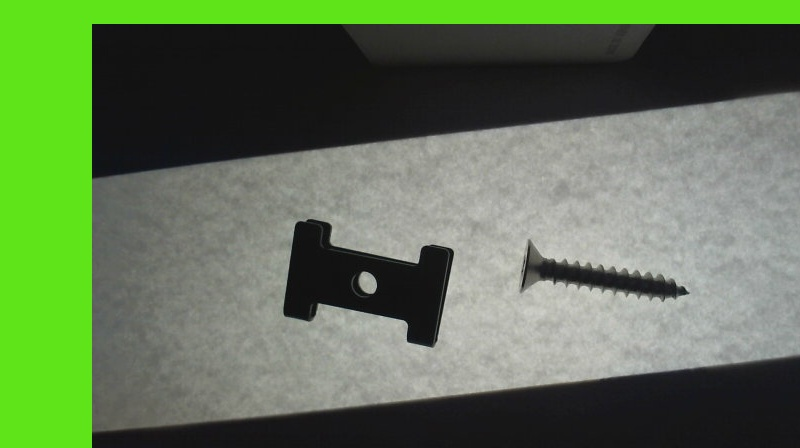O002: (282, 217, 450, 347)
S001: (514, 239, 687, 302)
